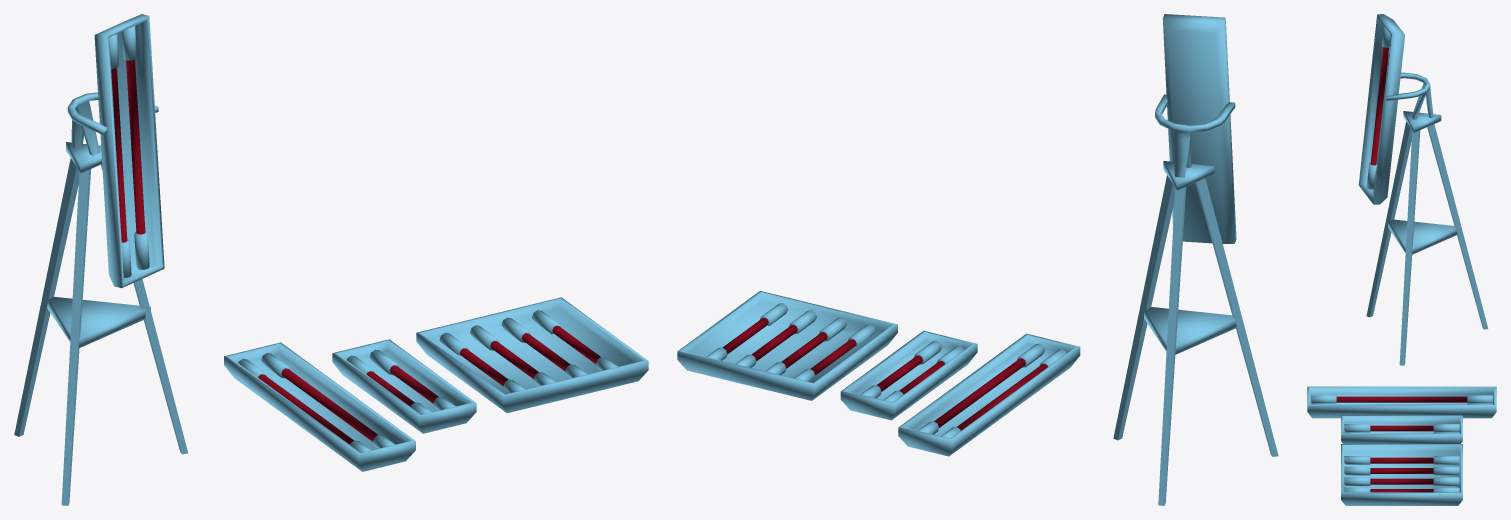
The picture shows the model from 3 angles, left to right: view 1: azimuth 30°, elevation 25°; view 2: azimuth 150°, elevation 25°; view 3: azimuth 270°, elevation 25°; orthographic projection. The views are drawn at different scales.
Parts seen in each view (by area): view 1: Plane.004, Plane.003, Plane.002, Plane, Plane.001, Cylinder.002, Cylinder.003, Cylinder, Circle.001, Cylinder.001, Circle.002; view 2: Plane.003, Plane.004, Plane.002, Plane, Plane.001, Cylinder.003, Cylinder, Circle.001, Circle.002, Cylinder.001, Circle; view 3: Plane.004, Plane.002, Plane, Plane.003, Cylinder.003, Plane.001, Cylinder, Circle.001, Cylinder.002, Cylinder.001, Circle.002, Circle.
Part boxes in pixels (<box>): Plane.004: <box>416,297,648,413</box>; Plane.003: <box>94,14,164,288</box>; Plane.002: <box>14,158,188,505</box>; Plane: <box>224,342,415,471</box>; Plane.001: <box>332,339,476,433</box>; Cylinder.002: <box>109,26,149,277</box>; Cylinder.003: <box>439,310,617,392</box>; Cylinder: <box>238,353,394,452</box>; Circle.001: <box>47,296,150,348</box>; Cylinder.001: <box>347,349,455,414</box>; Circle.002: <box>67,92,158,155</box>; Plane.003: <box>1163,14,1236,243</box>; Plane.004: <box>677,291,897,400</box>; Plane.002: <box>1113,175,1278,505</box>; Plane: <box>898,333,1080,456</box>; Plane.001: <box>840,330,977,420</box>; Cylinder.003: <box>706,303,875,381</box>; Cylinder: <box>918,343,1066,438</box>; Circle.001: <box>1144,307,1236,354</box>; Circle.002: <box>1155,94,1235,177</box>; Cylinder.001: <box>860,340,963,402</box>; Circle: <box>1163,161,1214,190</box>; Plane.004: <box>1341,444,1462,505</box>; Plane.002: <box>1366,121,1488,365</box>; Plane: <box>1307,386,1496,418</box>; Plane.003: <box>1358,14,1404,204</box>; Cylinder.003: <box>1344,456,1459,492</box>; Plane.001: <box>1341,415,1462,443</box>; Cylinder: <box>1311,395,1492,404</box>; Circle.001: <box>1388,219,1457,254</box>; Cylinder.002: <box>1366,26,1390,195</box>; Cylinder.001: <box>1344,424,1459,433</box>; Circle.002: <box>1386,72,1433,119</box>; Circle: <box>1403,111,1441,132</box>.
Bounding box in the file's own units: 1720 × 1316 × 710.
